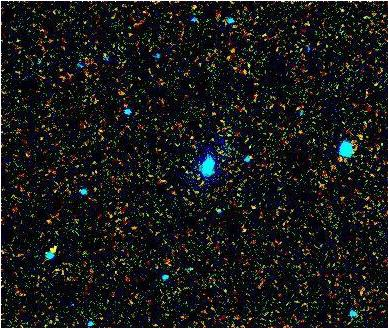star: (39, 237, 69, 267)
